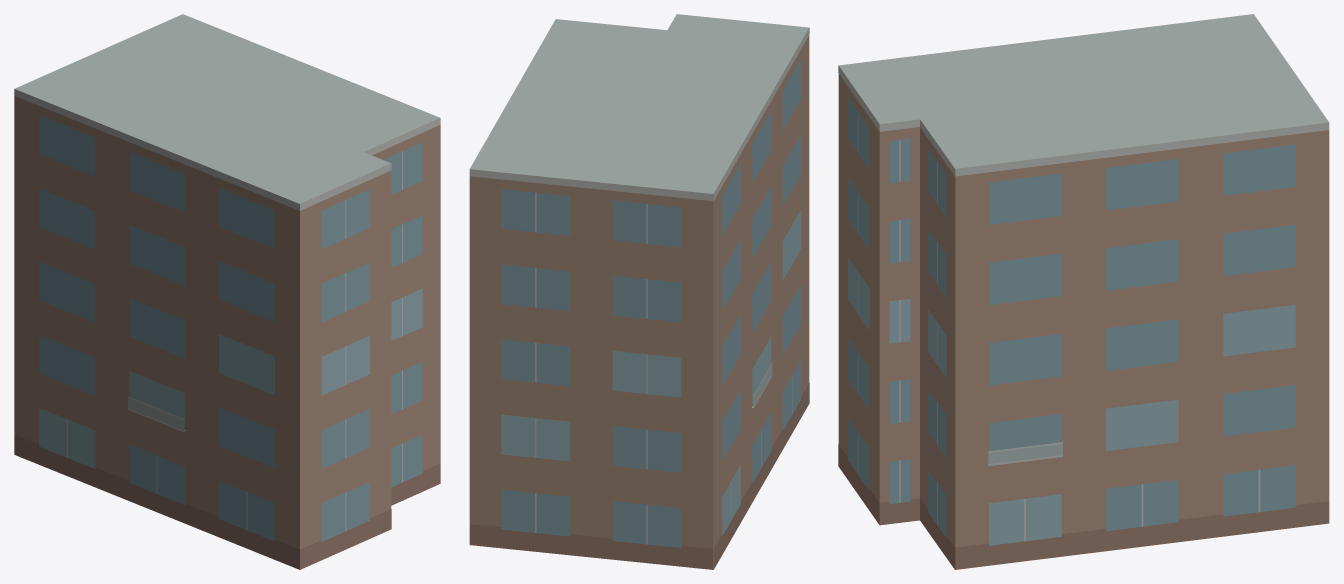
File: survey-upis-33035118.glb
The picture shows the model from 3 angles, left to right: view 1: azimuth 30°, elevation 25°; view 2: azimuth 150°, elevation 25°; view 3: azimuth 270°, elevation 25°; orthographic projection. The views are drawn at different scales.
Parts seen in each view (by area): view 1: survey-upis-33035118.tmp; view 2: survey-upis-33035118.tmp; view 3: survey-upis-33035118.tmp.
Boxes of the visible parts, bbox=[...] form: survey-upis-33035118.tmp: bbox=[14, 14, 440, 569]; survey-upis-33035118.tmp: bbox=[469, 14, 809, 569]; survey-upis-33035118.tmp: bbox=[838, 14, 1329, 569].
Size of the model in its own units: 10.79 by 13 by 14.44.
